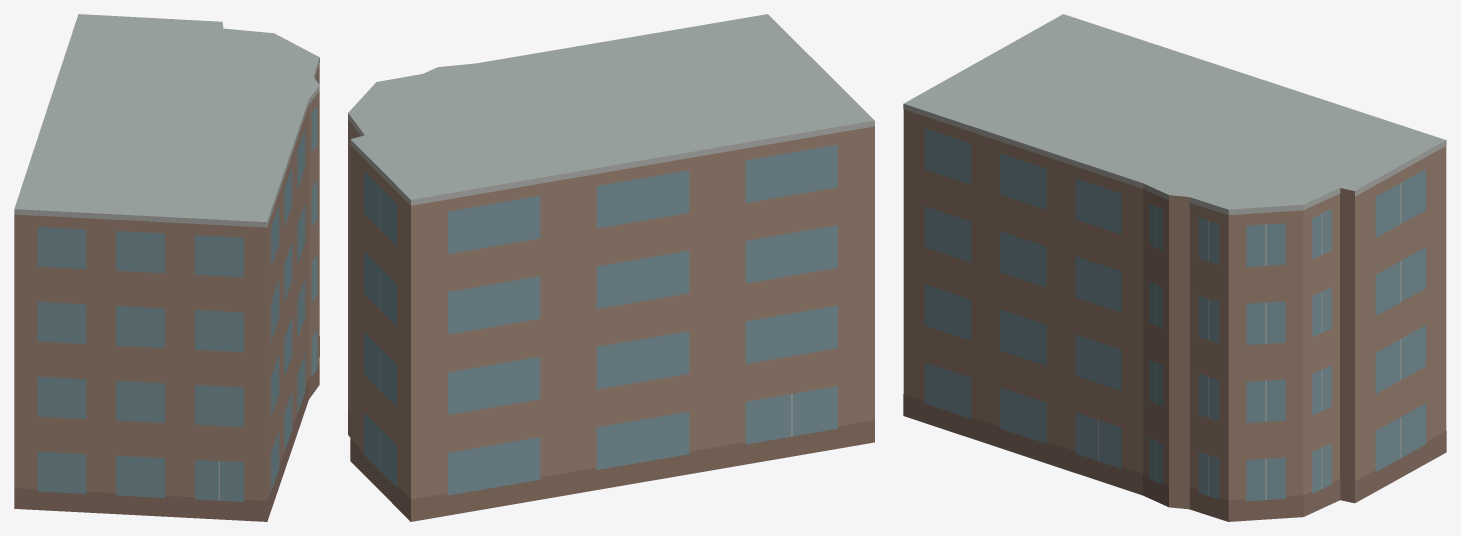
The model's file is survey-upis-32524916.glb.
3 renders of one model, left to right at view 1: azimuth 30°, elevation 25°; view 2: azimuth 150°, elevation 25°; view 3: azimuth 270°, elevation 25°, orthographic. The views are drawn at different scales.
Visible parts, largest first — view 1: survey-upis-32524916.tmp; view 2: survey-upis-32524916.tmp; view 3: survey-upis-32524916.tmp.
Part boxes in pixels (x1,y1,x2,y2): survey-upis-32524916.tmp: [14, 14, 319, 521]; survey-upis-32524916.tmp: [348, 14, 874, 521]; survey-upis-32524916.tmp: [903, 14, 1446, 521].
Bounding box in the file's own units: 18.28 × 13.6 × 21.44.
